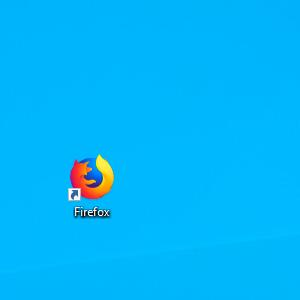firefox: (68, 153, 115, 202)
